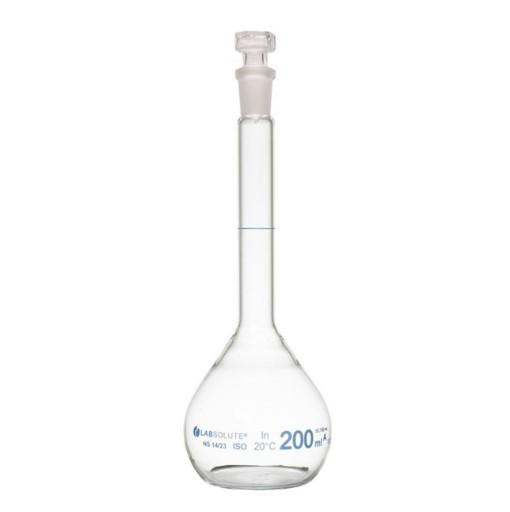Volumetric flask: (157, 22, 339, 493)
